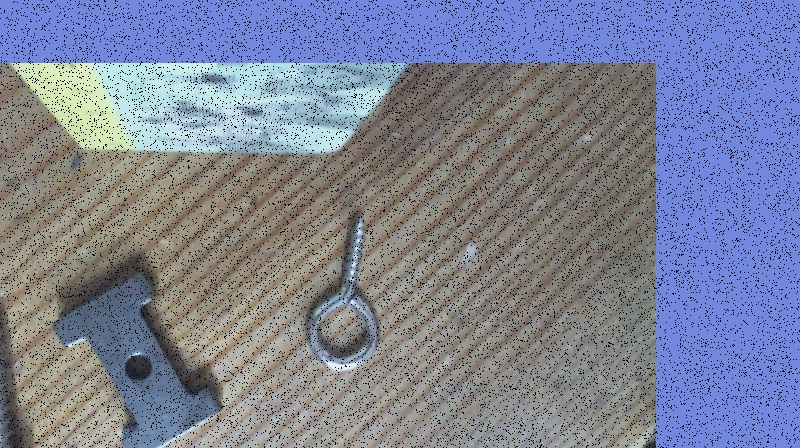O001: (300, 206, 380, 370)
O002: (49, 265, 227, 447)
S001: (0, 292, 32, 447)
